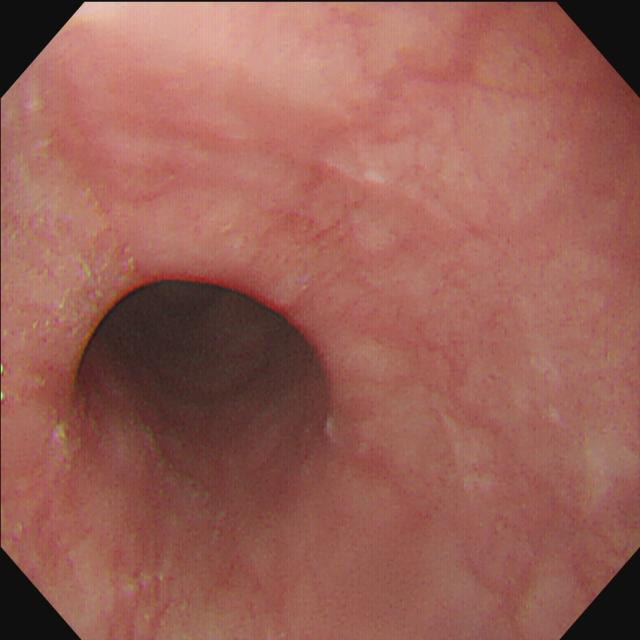E: (76, 279, 323, 437)
